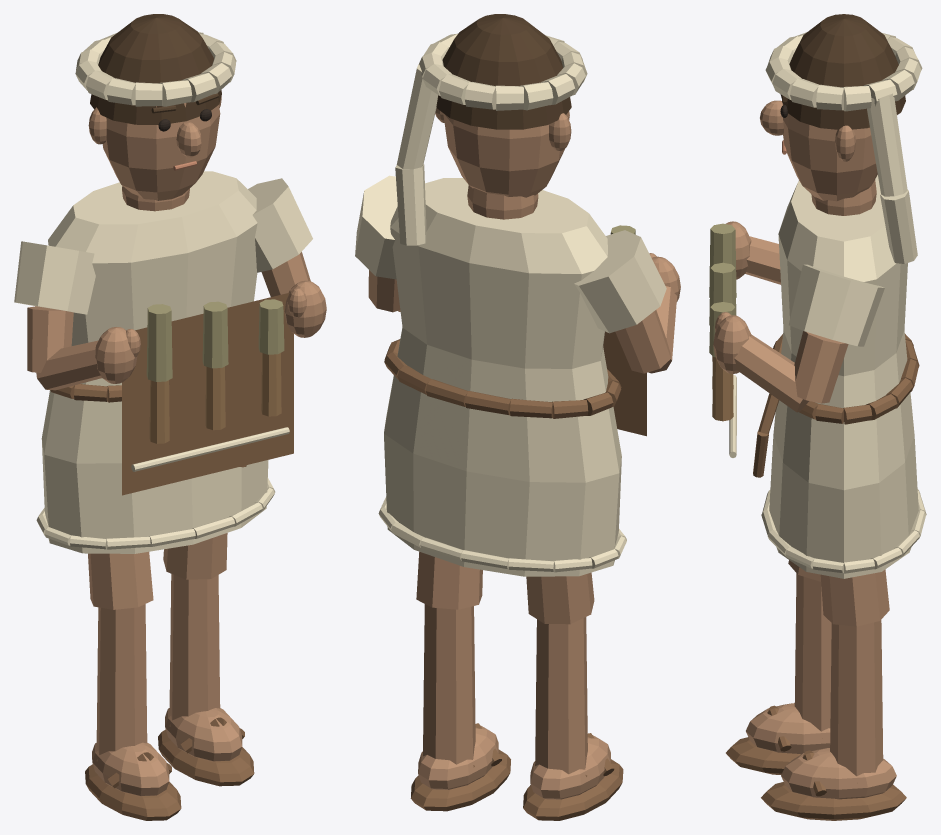
3 renders of one model, left to right at view 1: azimuth 30°, elevation 25°; view 2: azimuth 150°, elevation 25°; view 3: azimuth 270°, elevation 25°, orthographic. The views are drawn at different scales.
Visible parts, largest first — view 1: BA-0085 Bronze goods trader batched; view 2: BA-0085 Bronze goods trader batched; view 3: BA-0085 Bronze goods trader batched.
Part boxes in pixels (left/top/right/bottom): BA-0085 Bronze goods trader batched: left=14, top=14, right=326, bottom=820; BA-0085 Bronze goods trader batched: left=355, top=14, right=680, bottom=820; BA-0085 Bronze goods trader batched: left=709, top=14, right=926, bottom=820.
Bounding box in the file's own units: 0.6844 × 1.71 × 0.4352.
